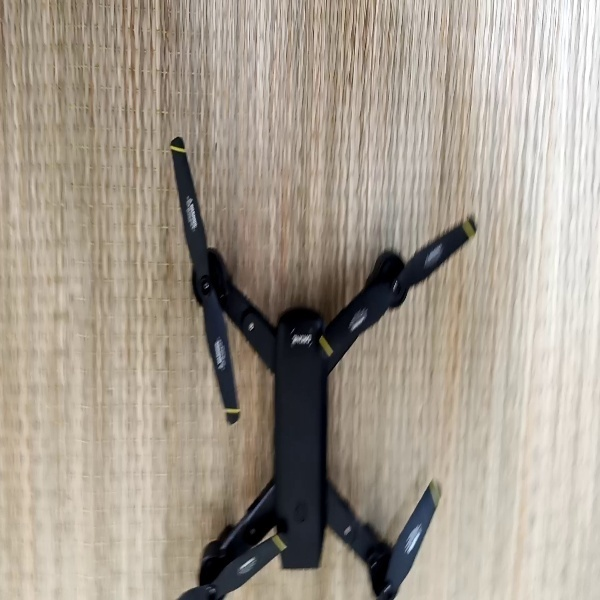drone: (157, 131, 482, 600)
